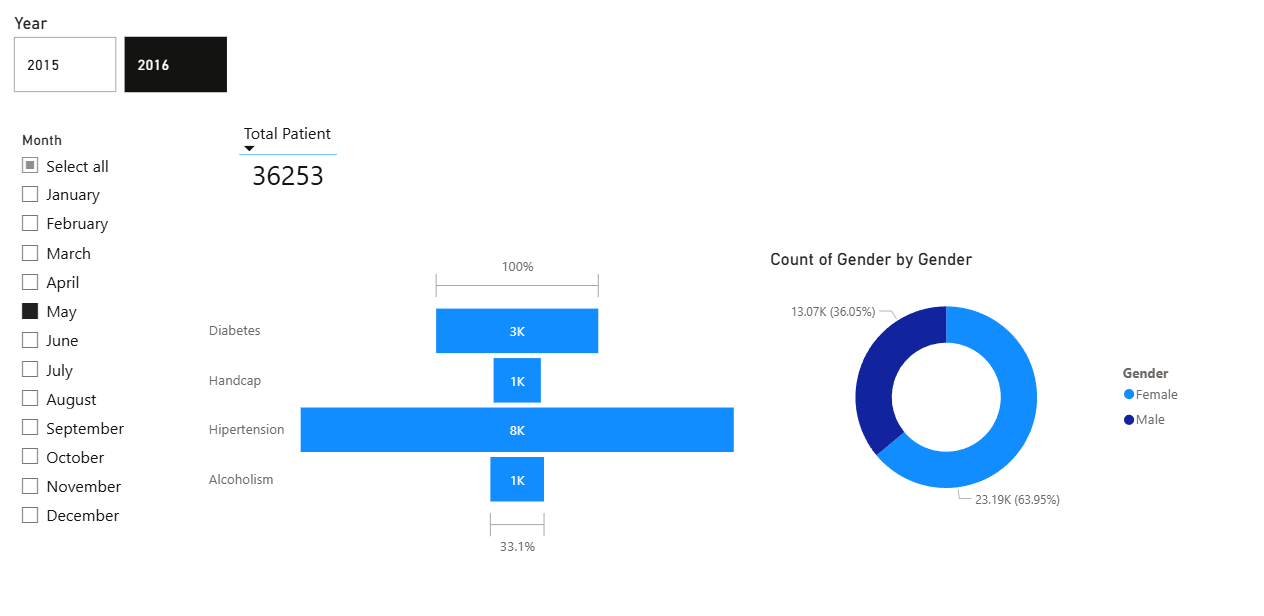

The page's visual inventory and layout, read from the dashboard file:
{"tool":"powerbi","page":{"name":"Page 1","canvas":[1280,720],"ordinal":0},"visuals":[{"type":"advancedSlicerVisual","fields":{"Values":["Medical_Appointment_No_Shows.ScheduledDay.Variation.Date Hierarchy.Year"]},"box":[14.9,23.6,222.7,84.6],"z":0},{"type":"donutChart","fields":{"Category":["Medical_Appointment_No_Shows.Gender"],"Y":["CountNonNull(Medical_Appointment_No_Shows.Gender)"]},"box":[767.5,258.7,426.7,276.2],"z":1000},{"type":"slicer","fields":{"Values":["Medical_Appointment_No_Shows.ScheduledDay.Variation.Date Hierarchy.Month"]},"box":[14.9,136.8,165.4,445.3],"z":2000},{"type":"funnel","fields":{"Y":["Sum(Medical_Appointment_No_Shows.Diabetes)","Sum(Medical_Appointment_No_Shows.Handcap)","Sum(Medical_Appointment_No_Shows.Hipertension)","Sum(Medical_Appointment_No_Shows.Alcoholism)"]},"box":[209,258.7,537.4,311],"z":3000},{"type":"tableEx","fields":{"Values":["CountNonNull(Medical_Appointment_No_Shows.PatientId)"]},"box":[237.6,125.6,175.4,98.3],"z":4000}]}

Visuals, with their boxes on the page's 1280x720 design canvas (x1, y1, x2, y2). These are canvas units, not pixel positions in the 1264x616 screenshot, which may show the page scaled, cropped or inside an application window:
advancedSlicerVisual - Medical_Appointment_No_Shows.ScheduledDay.Variation.Date Hierarchy.Year: bbox=(15, 24, 238, 108)
donutChart - Medical_Appointment_No_Shows.Gender x CountNonNull(Medical_Appointment_No_Shows.Gender): bbox=(768, 259, 1194, 535)
slicer - Medical_Appointment_No_Shows.ScheduledDay.Variation.Date Hierarchy.Month: bbox=(15, 137, 180, 582)
funnel - Sum(Medical_Appointment_No_Shows.Diabetes) x Sum(Medical_Appointment_No_Shows.Handcap): bbox=(209, 259, 746, 570)
tableEx - CountNonNull(Medical_Appointment_No_Shows.PatientId): bbox=(238, 126, 413, 224)
